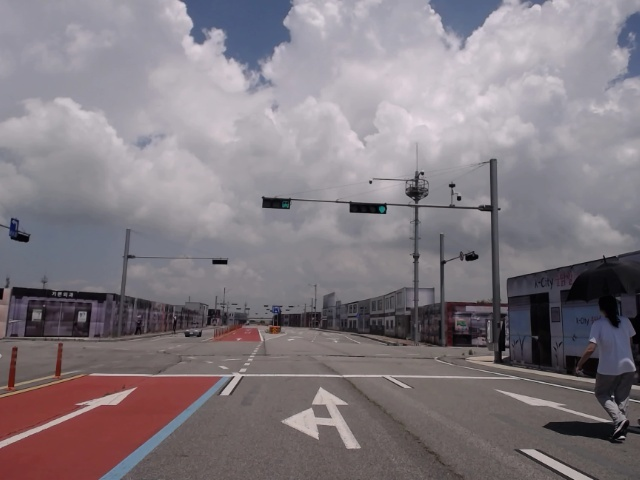straight_green_4: (348, 202, 387, 214)
